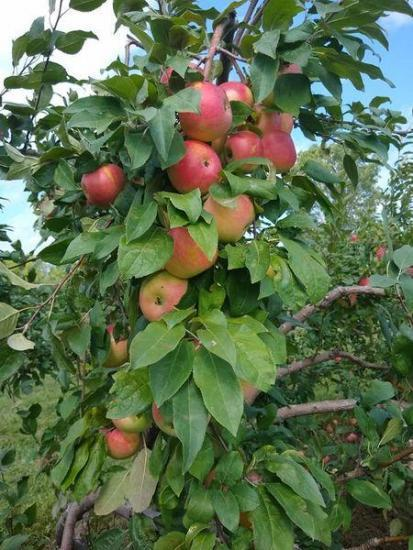apple: (174, 80, 231, 143), (164, 139, 220, 194), (201, 192, 254, 244), (163, 226, 215, 279), (137, 272, 187, 323), (81, 164, 124, 207), (105, 430, 140, 459), (110, 413, 152, 433)
